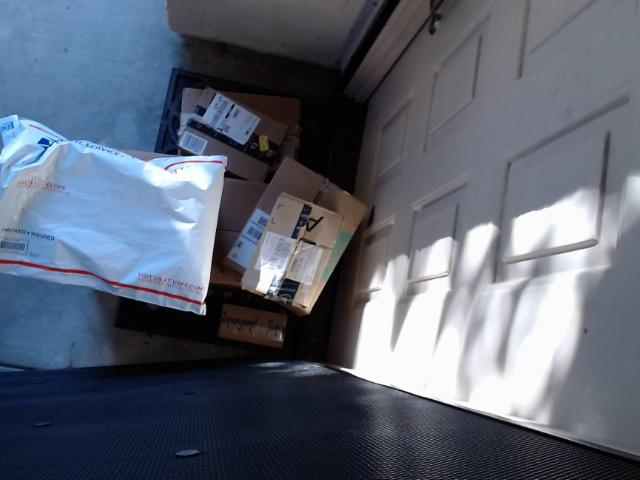box: (240, 148, 364, 331), (183, 59, 320, 168), (254, 188, 335, 295), (194, 292, 290, 351)
plastic_bag: (0, 103, 228, 319)
